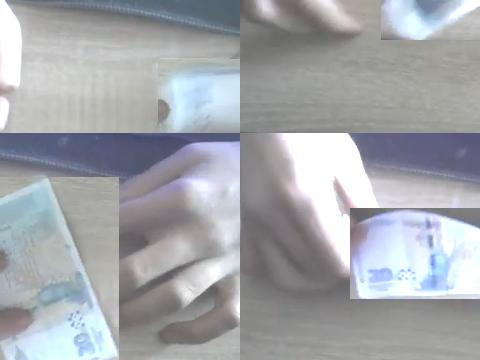20leva: (0, 177, 119, 360), (350, 208, 480, 299), (158, 61, 240, 133)
